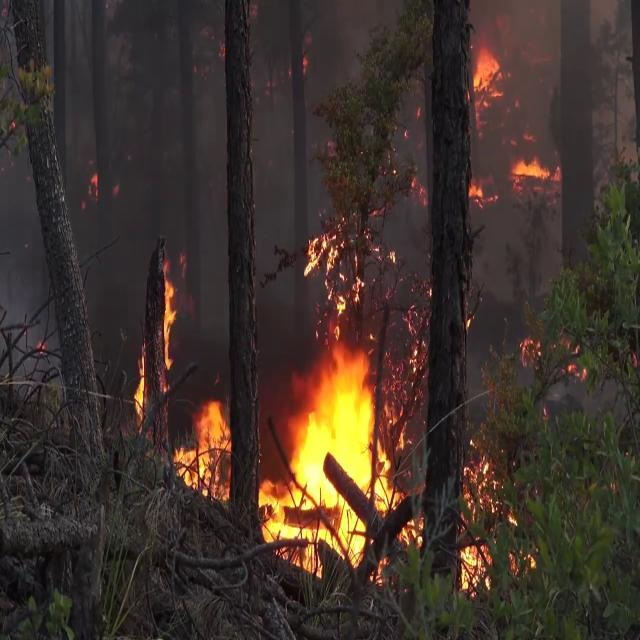Fire: (256, 344, 414, 574), (455, 427, 505, 597), (172, 394, 235, 500), (306, 228, 358, 330), (160, 258, 180, 378), (470, 40, 506, 101), (510, 152, 560, 188), (132, 342, 148, 428)
Smoke: (74, 2, 226, 319)
